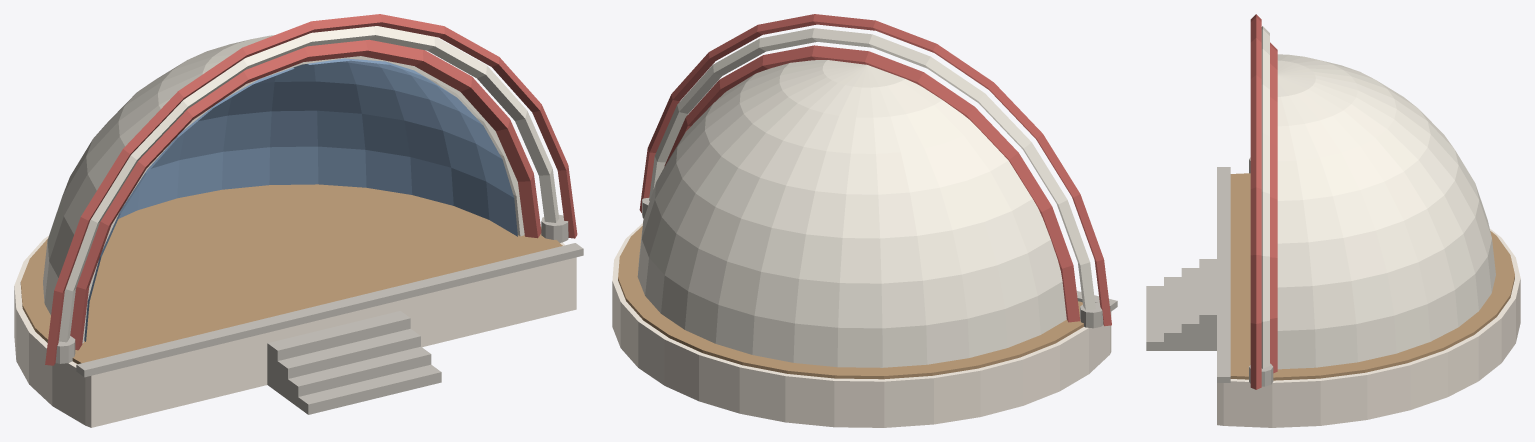
Rendered from bandshell.gltf.
The picture shows the model from 3 angles, left to right: view 1: azimuth 30°, elevation 25°; view 2: azimuth 150°, elevation 25°; view 3: azimuth 270°, elevation 25°; orthographic projection. The views are drawn at different scales.
Parts seen in each view (by area): view 1: Bandshell; view 2: Bandshell; view 3: Bandshell.
Boxes of the visible parts, x1=… form: Bandshell: x1=14, y1=14, x2=583, y2=427; Bandshell: x1=612, y1=14, x2=1117, y2=427; Bandshell: x1=1146, y1=14, x2=1520, y2=427.
Size of the model in its own units: 9.6 by 5.7 by 6.78.
